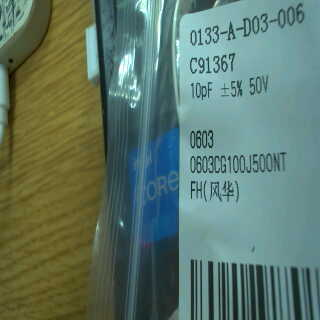10pF: (189, 73, 216, 102)
